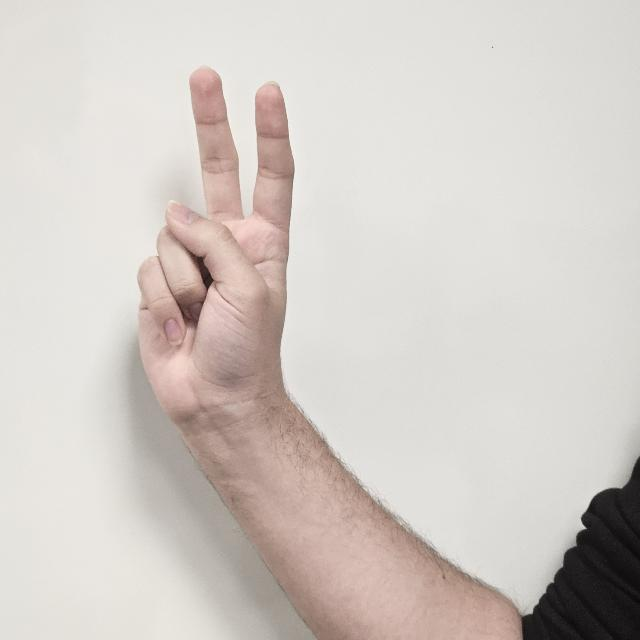Triangulo: (136, 71, 290, 456)
